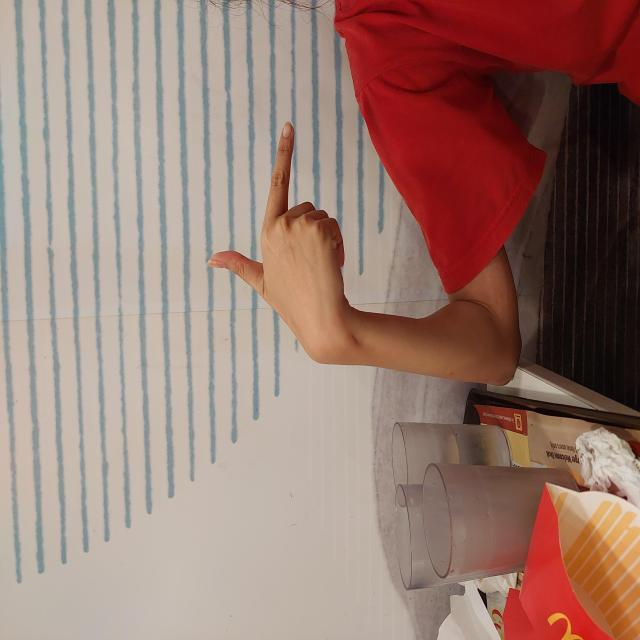G: (275, 205, 520, 348)
